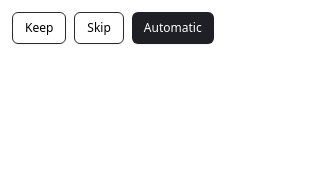
Optional selection review › preserves the current choice when an active run blocks feedback
Click the button "Keep".
click(39, 28)  # box [12,12,66,44]
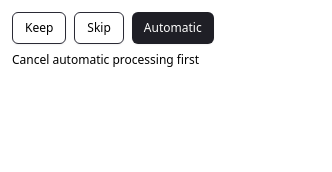
Expected: the text "Cancel automatic processing first" is shown, [12,51,199,68]
